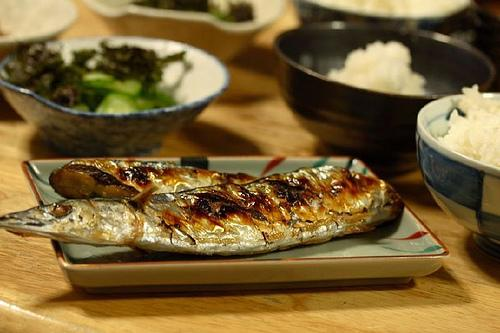rice: (327, 41, 425, 93), (438, 88, 499, 167)
